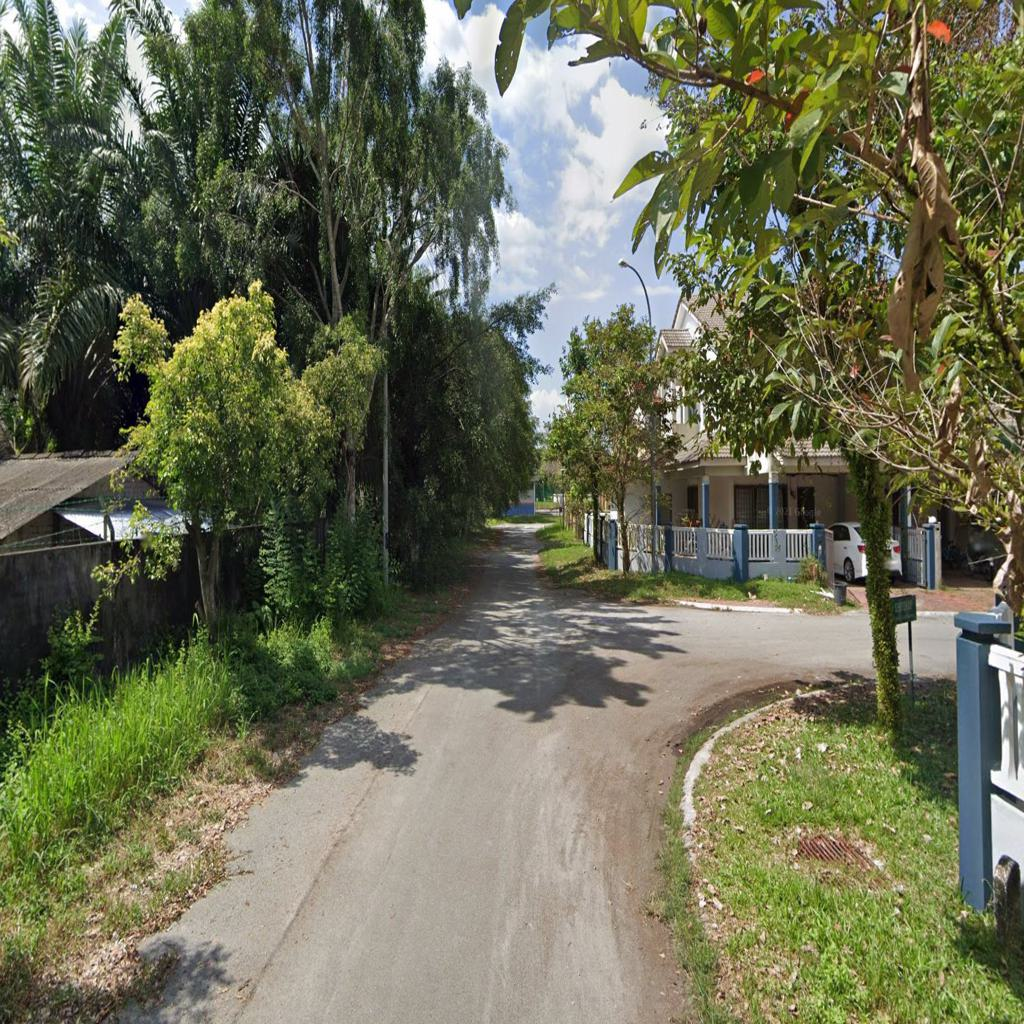Junction: (588, 567, 872, 780)
